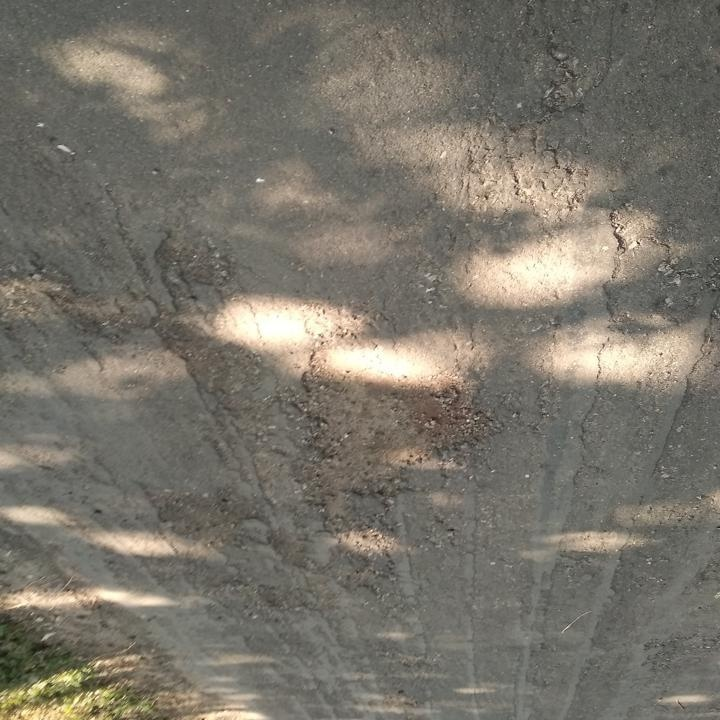pothole: (295, 321, 506, 515)
